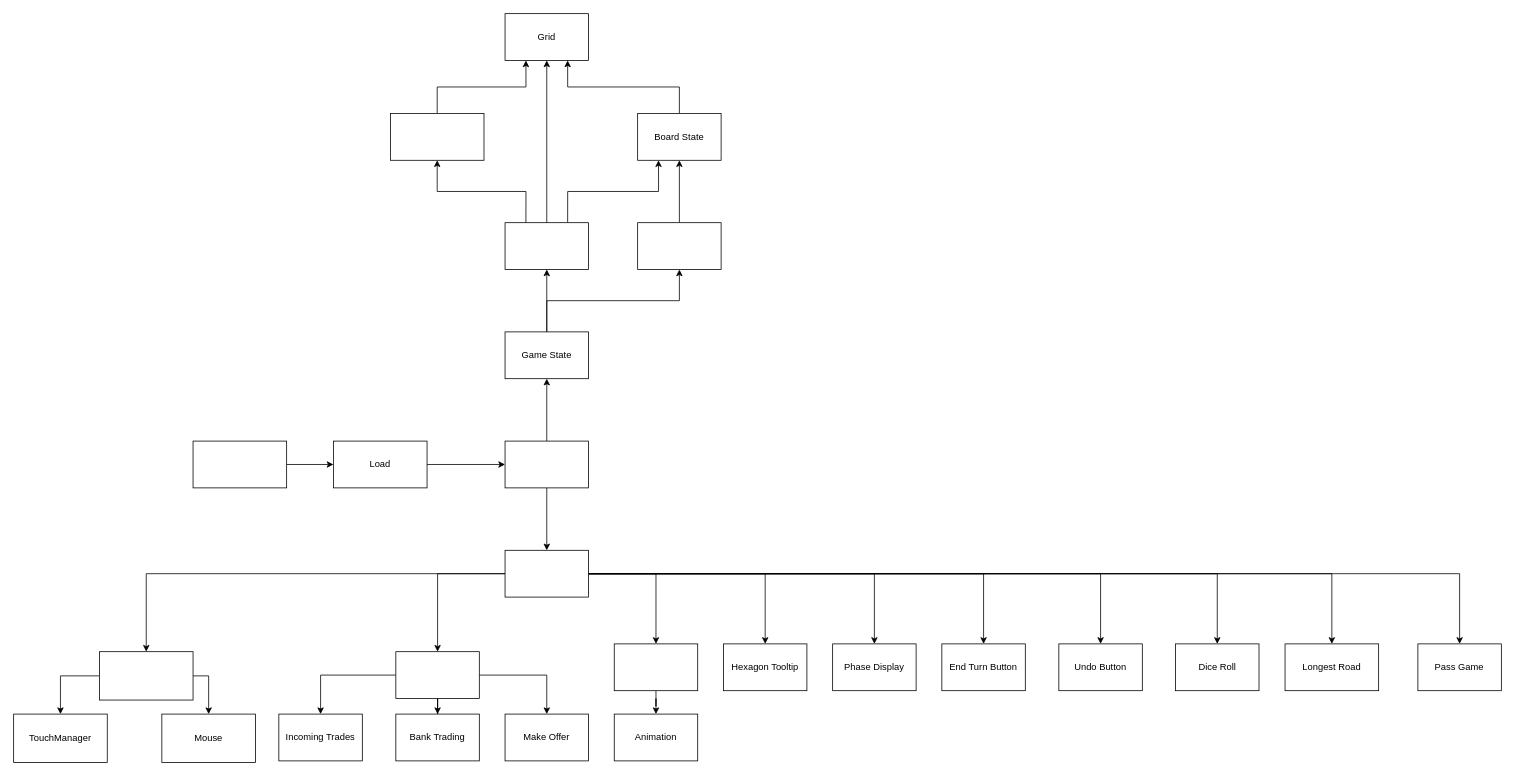
Some shapes in this 1516 by 776 pixel diagram are drawn without their labels. Here are the shapes that lost their labels. From the top down, the centre of each, then its label:
(437,136): Transform
(546,245): Hitbox
(679,245): Player
(239,464): Init
(546,464): Game
(546,573): Views
(146,675): Input
(437,674): Trading
(655,667): Canvas
